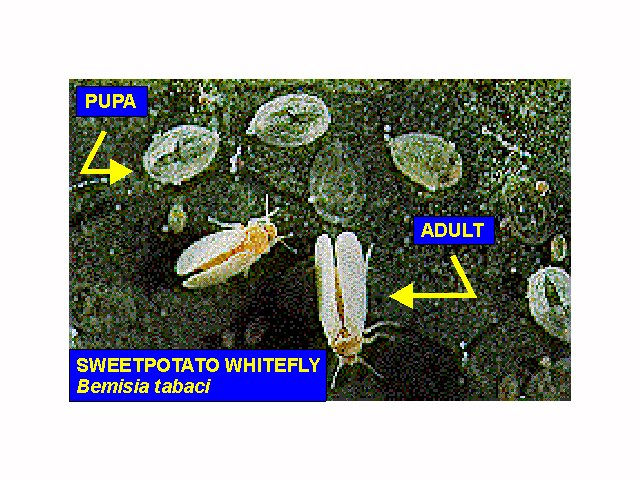whitefly: (309, 228, 389, 385), (176, 196, 295, 288)
